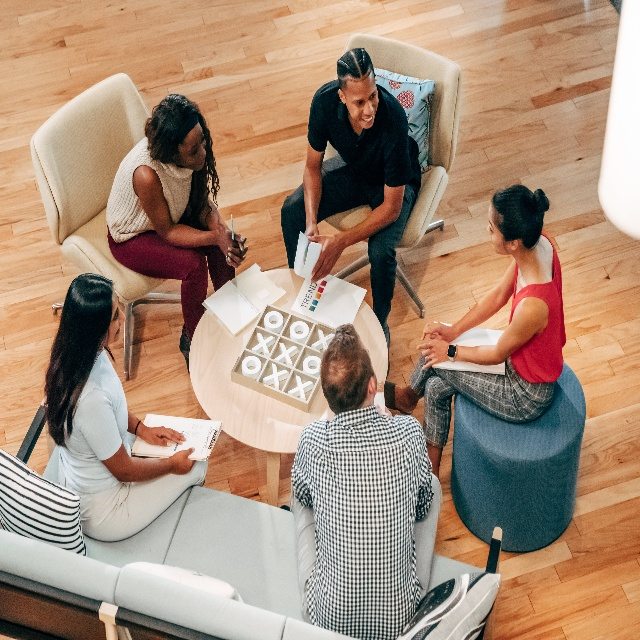Sin_guantes: (306, 232, 347, 284), (416, 339, 450, 370), (218, 228, 248, 260), (144, 426, 186, 446), (169, 446, 196, 474), (421, 321, 455, 342), (225, 240, 244, 268), (304, 222, 319, 244)
